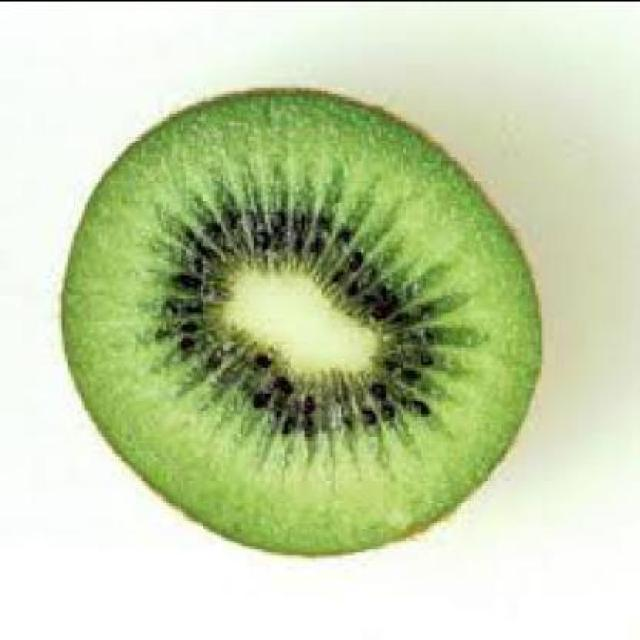BIODEGRADABLE: (57, 89, 541, 560)
